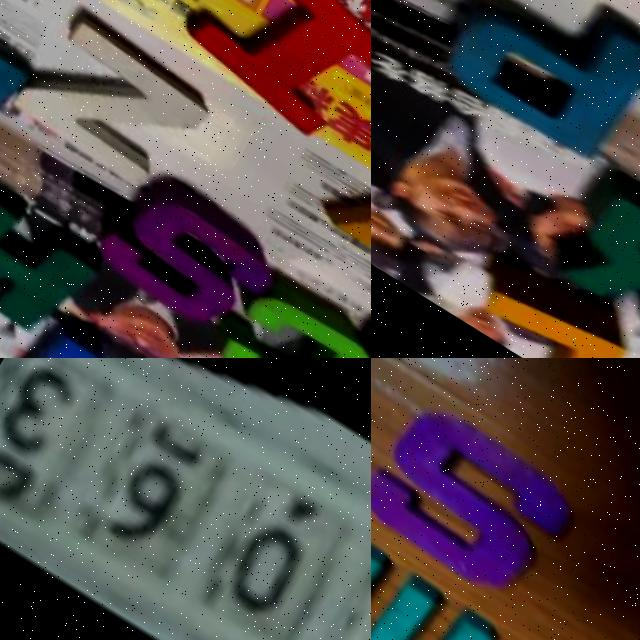0: (207, 496, 333, 640)
3: (0, 358, 96, 482)
6: (86, 430, 208, 573)
C: (214, 264, 371, 358)
F: (0, 8, 41, 177)
I: (163, 0, 371, 156)
K: (0, 156, 107, 348), (550, 158, 640, 357)
M: (371, 529, 498, 640)
N: (0, 291, 181, 358)
P: (434, 0, 640, 167)
S: (371, 388, 573, 607), (82, 152, 280, 338)
X: (323, 109, 371, 302)
Z: (15, 2, 214, 197)
